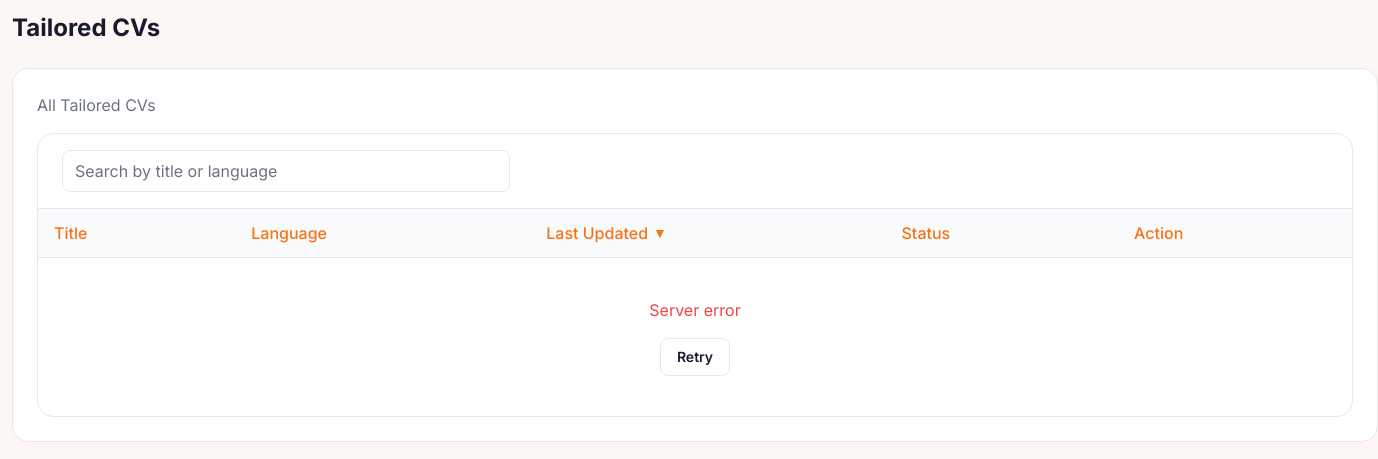
Test: TailoredCVsPage › passes error state and retries on Retry click
The width and height of the screenshot is (1378, 459).
Expected: the text "Server error" is shown, [649, 298, 741, 322]
Click the button "Retry".
click(695, 357)  # box [660, 338, 730, 376]
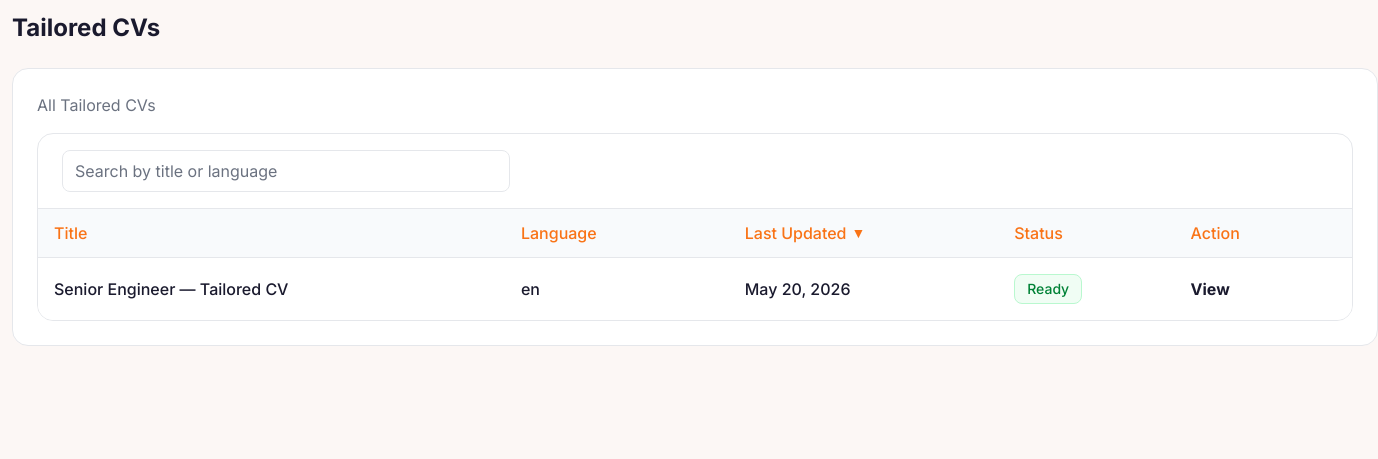
Expected: the text "Senior Engineer — Tailored CV" is shown, [54, 279, 288, 299]
